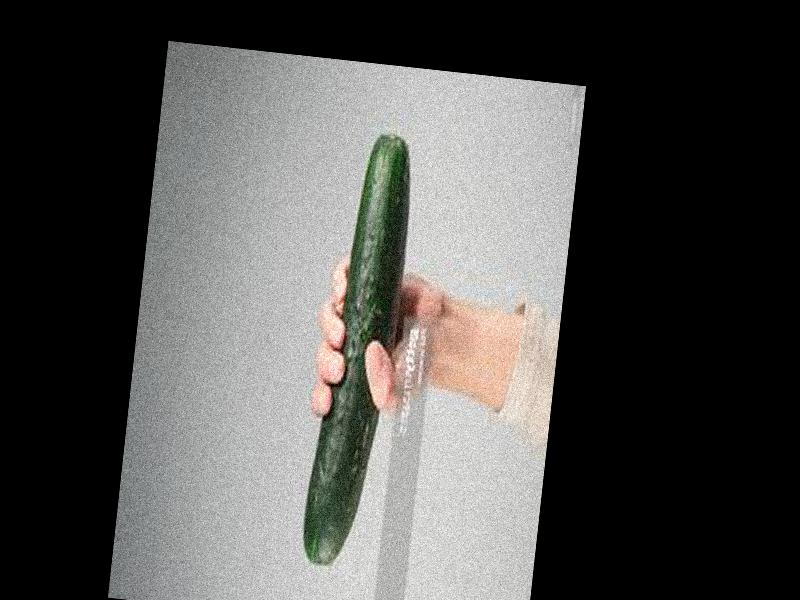Cucumber: (299, 137, 416, 570)
